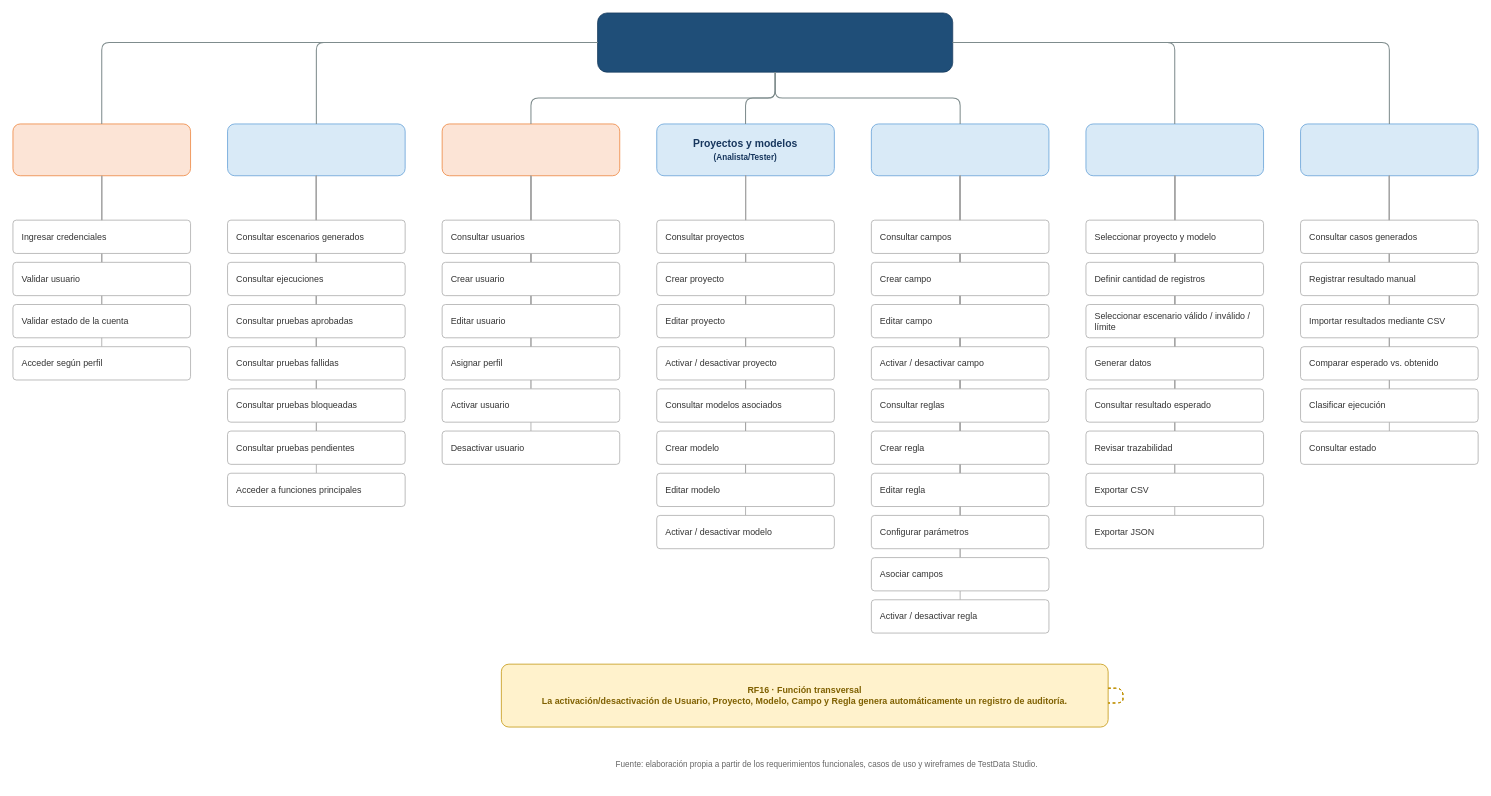
The diagram is 1491 pixels wide and 796 high, and some of its shapes have lost their labels. Here are the shapes that lost their labels. From the top down, the centre of each, then its label:
At (x=775, y=42): "TESTDATA STUDIO Árbol funcional de la interfaz".
At (x=101, y=149): "Inicio de sesión".
At (x=316, y=149): "Dashboard".
At (x=530, y=149): "Gestión de usuarios (Administrador)".
At (x=960, y=149): "Campos y reglas (Analista/Tester)".
At (x=1174, y=149): "Generación de datos y escenarios".
At (x=1389, y=149): "Resultados y ejecución".
